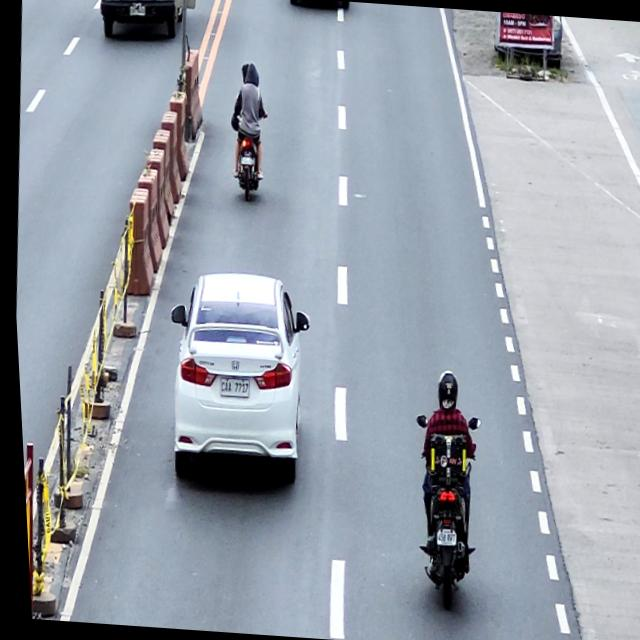Car: (154, 268, 316, 488)
License-Plate: (215, 377, 246, 398), (430, 528, 451, 546), (239, 156, 251, 166)
Motorcycle: (398, 414, 484, 610), (225, 106, 270, 202)
